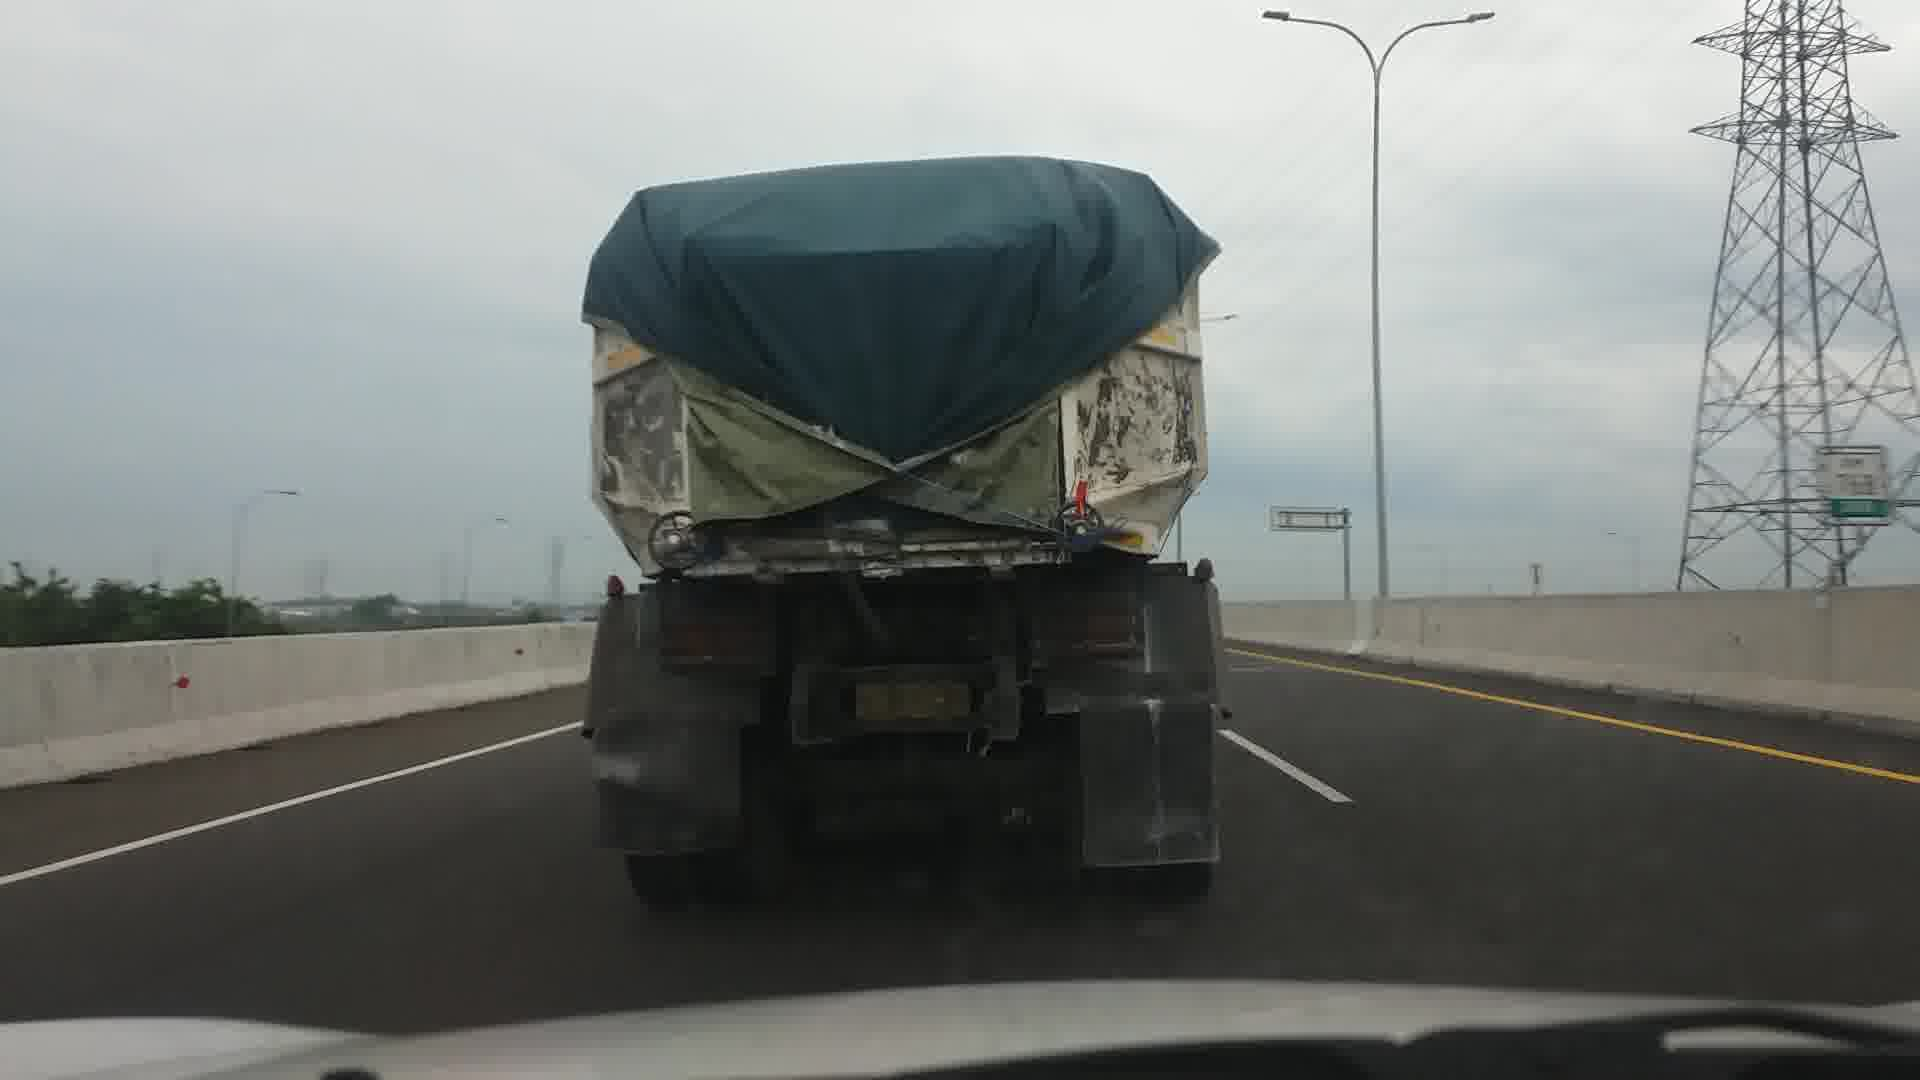plate_positive: (856, 680, 971, 720)
